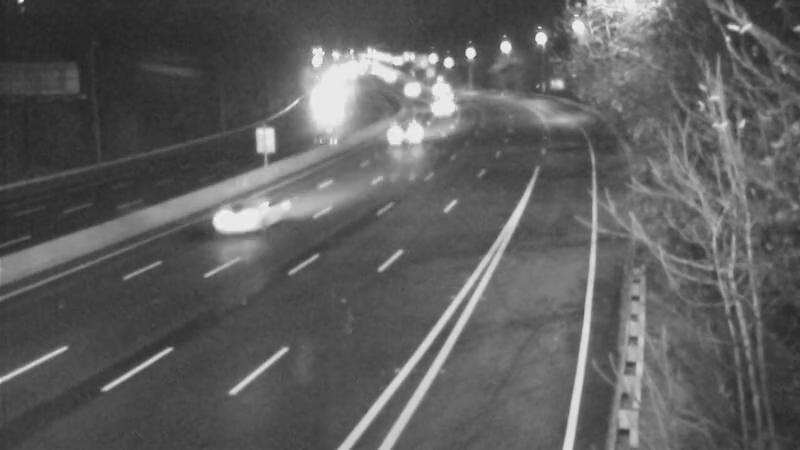vehicle: (200, 183, 280, 263), (387, 65, 437, 115), (417, 64, 467, 114), (420, 75, 470, 125), (418, 85, 468, 135), (380, 113, 430, 163), (299, 88, 349, 138)
